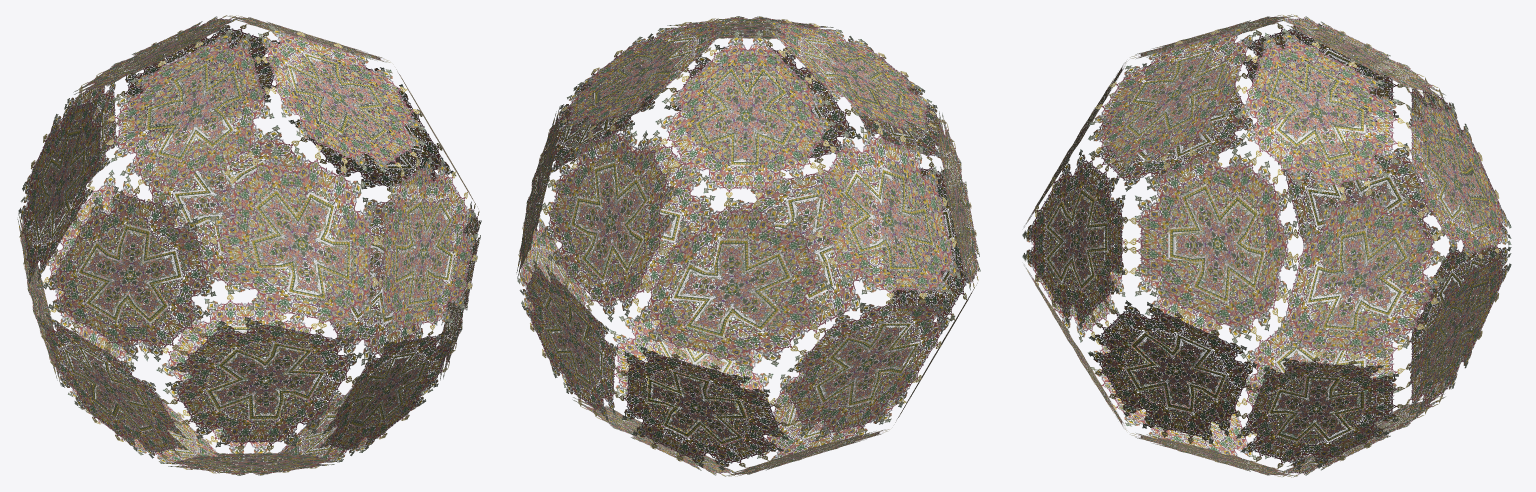
File: PentagonalIcositetrahedron2.obj
The picture shows the model from 3 angles, left to right: view 1: azimuth 30°, elevation 25°; view 2: azimuth 150°, elevation 25°; view 3: azimuth 270°, elevation 25°; orthographic projection.
Bounding box in the file's own units: 2.72 × 2.72 × 2.72.
1 material, 1 textured.
